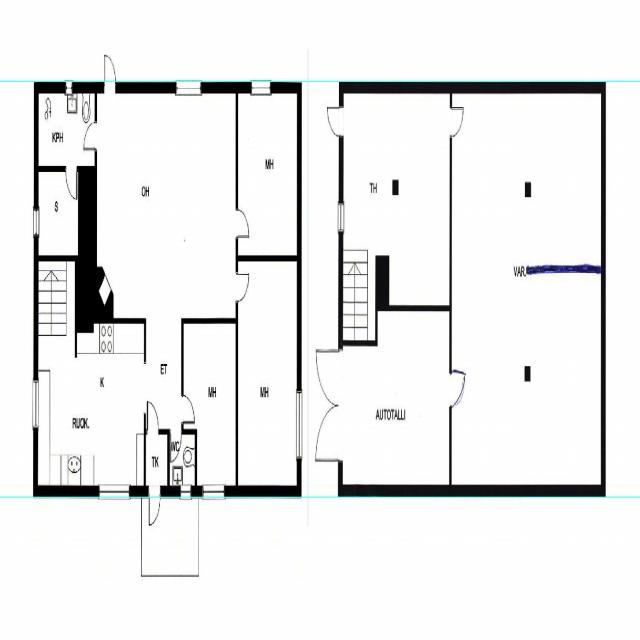door: (316, 350, 344, 406), (316, 406, 343, 461), (449, 372, 465, 407), (327, 107, 343, 136), (104, 55, 115, 94), (236, 209, 250, 238), (449, 108, 463, 137), (83, 128, 97, 156), (150, 486, 160, 525), (147, 402, 158, 434), (182, 395, 194, 423), (66, 166, 76, 198), (236, 274, 248, 300), (171, 429, 181, 460)
